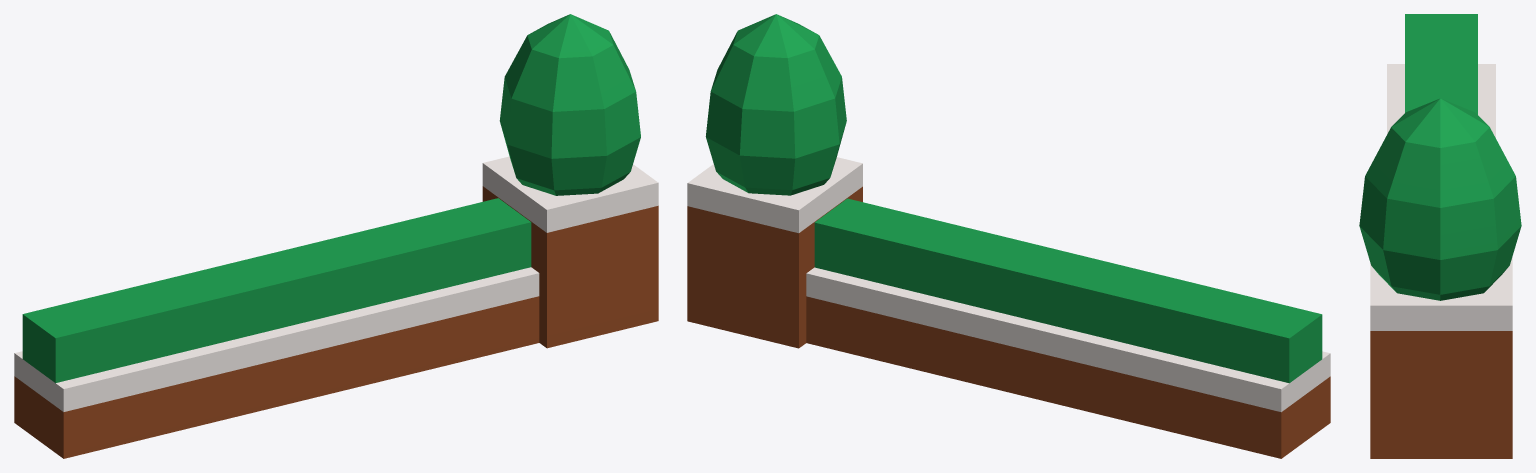
The model's file is plants 3.fbx.
The picture shows the model from 3 angles, left to right: view 1: azimuth 30°, elevation 25°; view 2: azimuth 150°, elevation 25°; view 3: azimuth 270°, elevation 25°; orthographic projection. The views are drawn at different scales.
Visible parts, largest first — view 1: plants_3; view 2: plants_3; view 3: plants_3.
Boxes of the visible parts, bbox=[...] form: plants_3: bbox=[14, 14, 658, 458]; plants_3: bbox=[687, 14, 1330, 458]; plants_3: bbox=[1359, 14, 1521, 458].
Bounding box in the file's own units: 329 × 158 × 70.2.
1 material, 1 textured.
